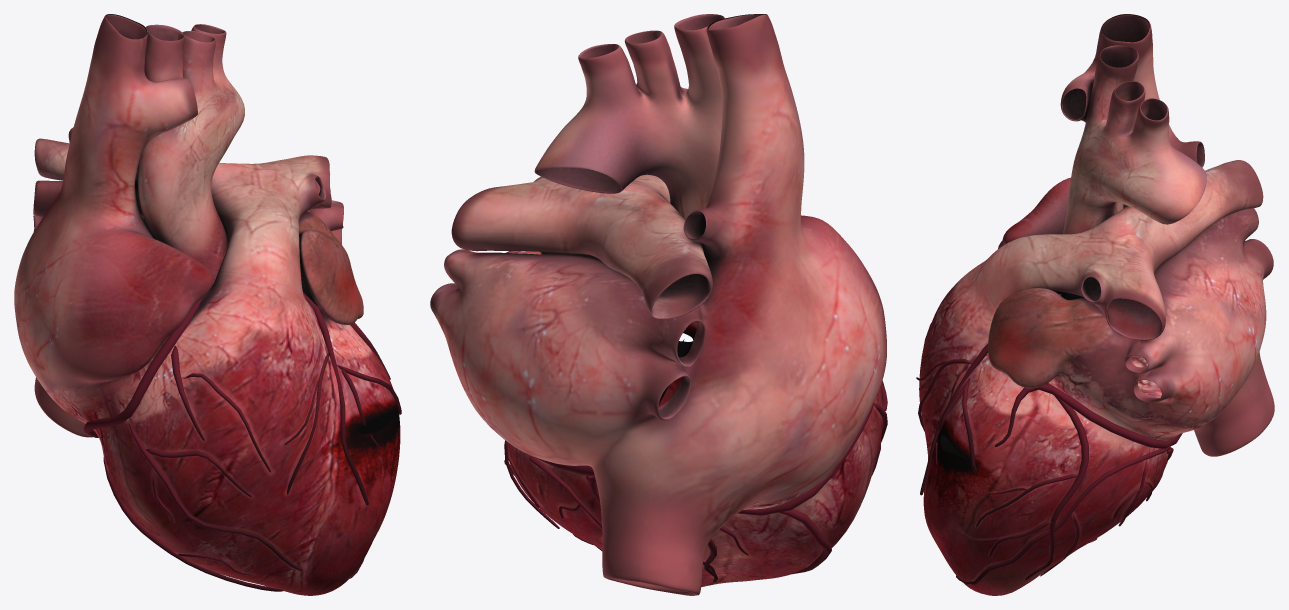
The model's file is gemelo_corazon.glb.
3 renders of one model, left to right at view 1: azimuth 30°, elevation 25°; view 2: azimuth 150°, elevation 25°; view 3: azimuth 270°, elevation 25°, orthographic. The views are drawn at different scales.
Visible parts, largest first — view 1: corazon_armablanca_Map_0, corazon_armablanca_Map_0_1; view 2: corazon_armablanca_Map_0, corazon_armablanca_Map_0_1; view 3: corazon_armablanca_Map_0, corazon_armablanca_Map_0_1.
Part boxes in pixels (box(x1,y1,x2,y2)): corazon_armablanca_Map_0: box(14, 14, 401, 595); corazon_armablanca_Map_0_1: box(105, 14, 391, 576); corazon_armablanca_Map_0: box(430, 14, 887, 595); corazon_armablanca_Map_0_1: box(504, 14, 766, 549); corazon_armablanca_Map_0: box(917, 14, 1274, 595); corazon_armablanca_Map_0_1: box(916, 14, 1204, 584).
Size of the model in its own units: 1.25 by 2 by 1.26.
Materials: 2 (1 with a texture image).
